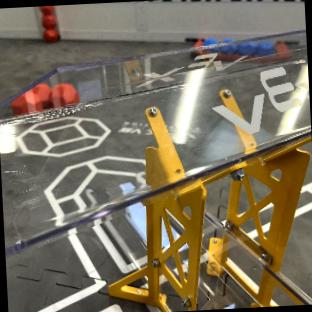V5_RED: (11, 82, 79, 114)
